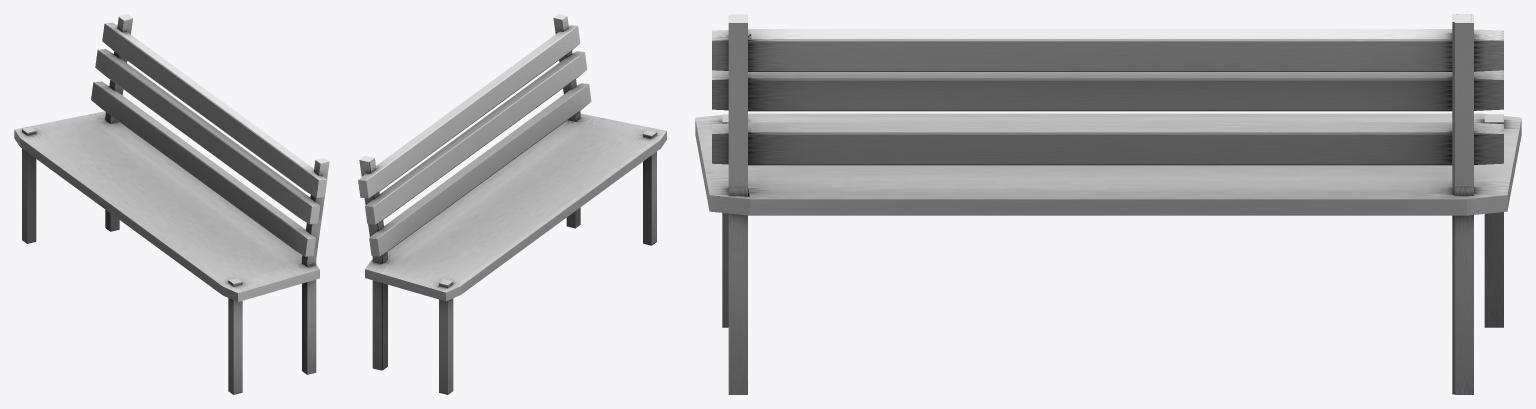
The model's file is Bench.fbx.
3 views of the same model, side by side, from view 1: azimuth 30°, elevation 25°; view 2: azimuth 150°, elevation 25°; view 3: azimuth 270°, elevation 25° (orthographic). The views are drawn at different scales.
Parts seen in each view (by area): view 1: pCube3, pCube6, pCube5, pCube7, pCube4, pCube9, pCube8, pCube2; view 2: pCube3, pCube6, pCube5, pCube7, pCube8, pCube9, pCube10, pCube2, pCube4; view 3: pCube3, pCube5, pCube7, pCube6, pCube4, pCube10, pCube8, pCube2, pCube9.
Boxes of the visible parts, bbox=[...] form: pCube3: bbox=[14, 111, 319, 301]; pCube6: bbox=[95, 49, 320, 224]; pCube5: bbox=[91, 81, 315, 256]; pCube7: bbox=[102, 22, 327, 197]; pCube4: bbox=[302, 158, 329, 374]; pCube9: bbox=[228, 278, 242, 394]; pCube8: bbox=[22, 127, 36, 243]; pCube2: bbox=[105, 14, 132, 231]; pCube3: bbox=[365, 113, 666, 301]; pCube6: bbox=[365, 51, 587, 224]; pCube5: bbox=[369, 83, 591, 256]; pCube7: bbox=[358, 25, 580, 198]; pCube8: bbox=[439, 279, 453, 394]; pCube9: bbox=[643, 130, 656, 245]; pCube10: bbox=[359, 156, 381, 370]; pCube2: bbox=[361, 156, 387, 370]; pCube4: bbox=[553, 14, 580, 228]; pCube3: bbox=[695, 113, 1521, 215]; pCube5: bbox=[712, 122, 1503, 165]; pCube7: bbox=[712, 29, 1503, 71]; pCube6: bbox=[712, 70, 1503, 111]; pCube4: bbox=[728, 14, 747, 394]; pCube10: bbox=[1454, 14, 1473, 394]; pCube8: bbox=[1484, 114, 1503, 327]; pCube2: bbox=[1452, 14, 1471, 394]; pCube9: bbox=[722, 114, 728, 327].
Size of the model in its own units: 0.5574 by 1.05 by 2.05.
9 materials, 9 textured.
